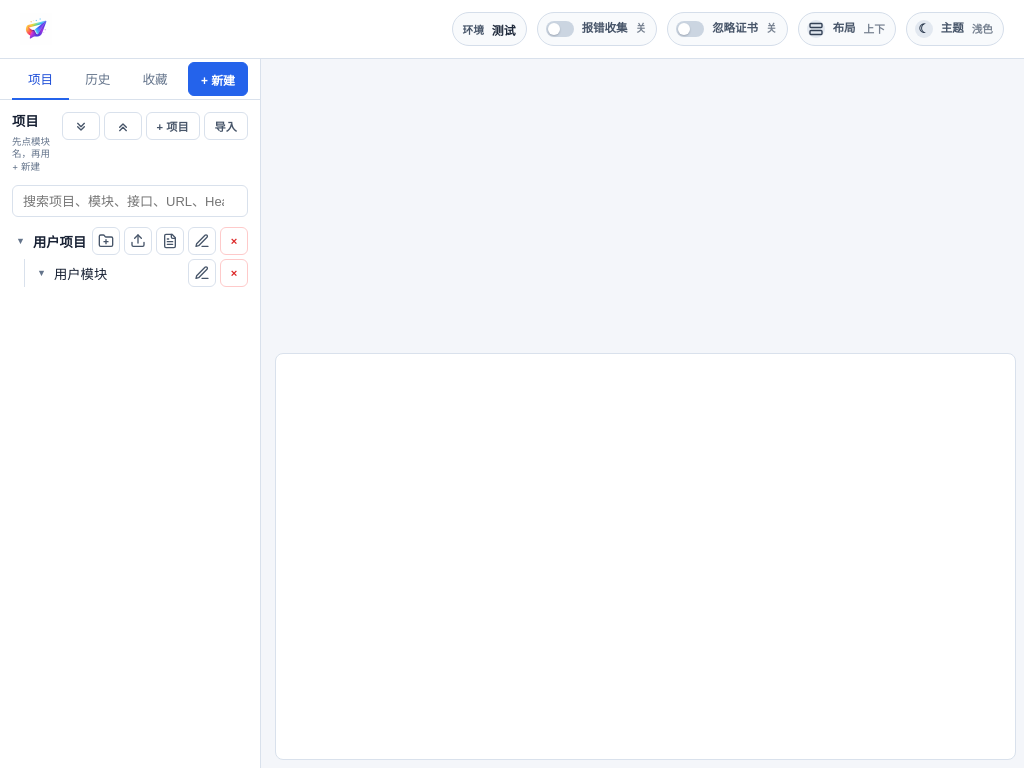
it: 项目树环境入口 › 同项目环境编辑立即同步当前请求配置，快捷键保存后关闭
Click the button "用户模块" at (119, 273), box [50,262,188,284]
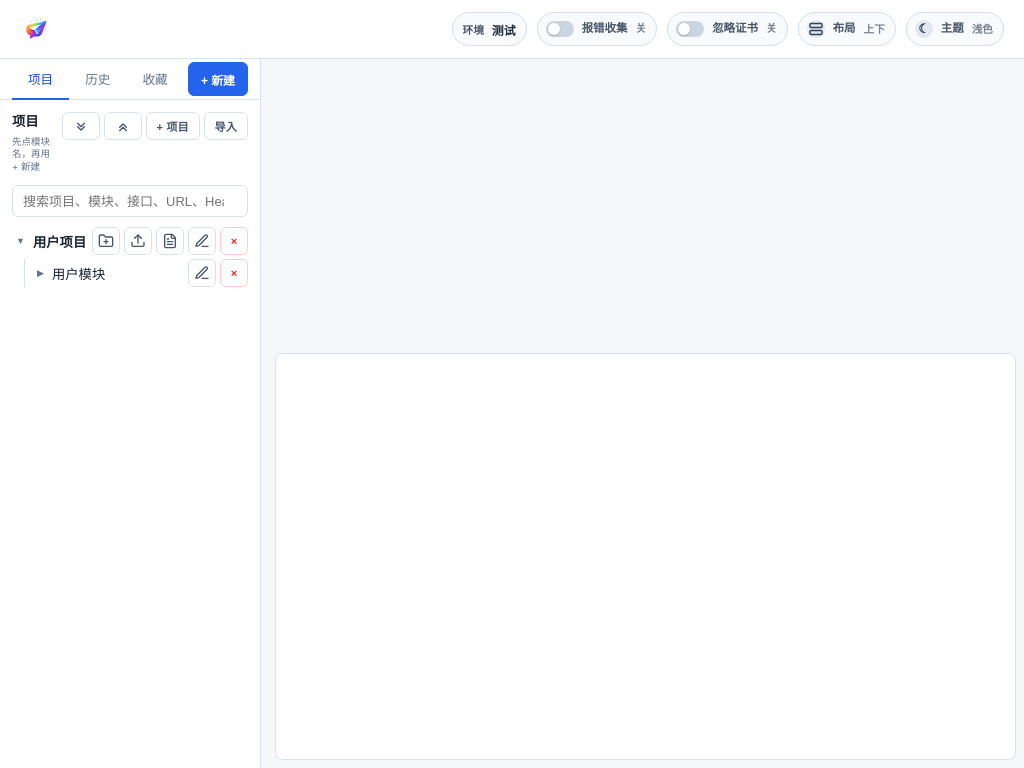
Click the button with aria-label "打开环境快速编辑，当前环境：测试" at (489, 29), box [452,12,527,46]
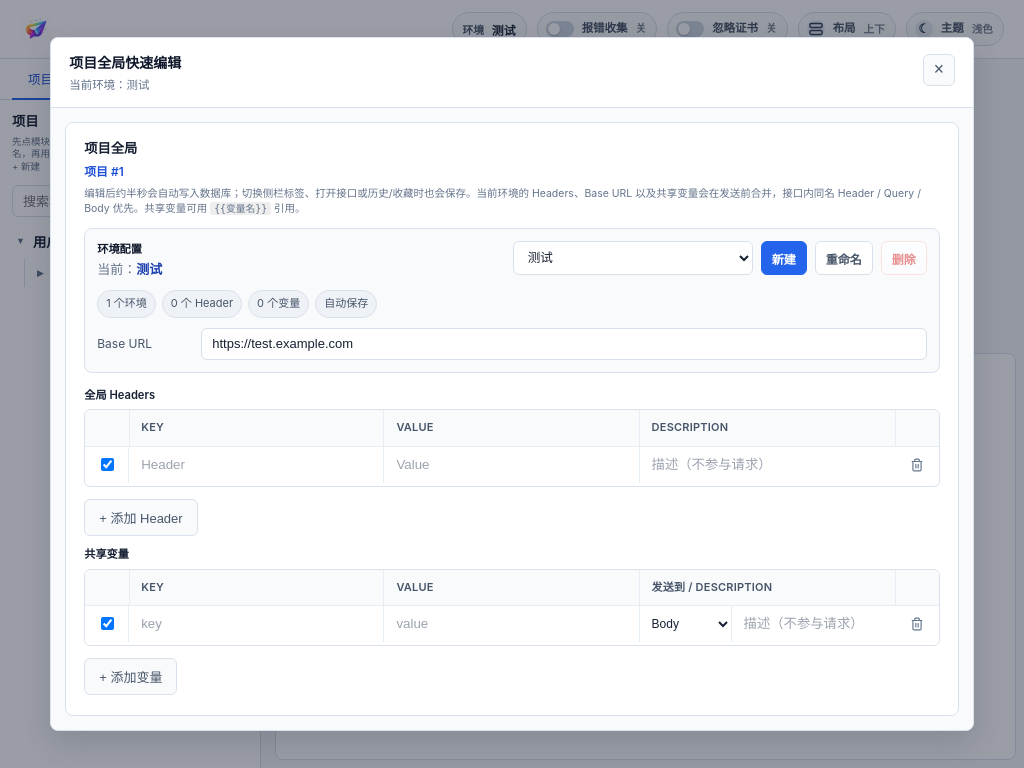
Replace the text in the field labelled "Base URL" with "https://same.example.com" at (564, 344), box [201,328,927,360]
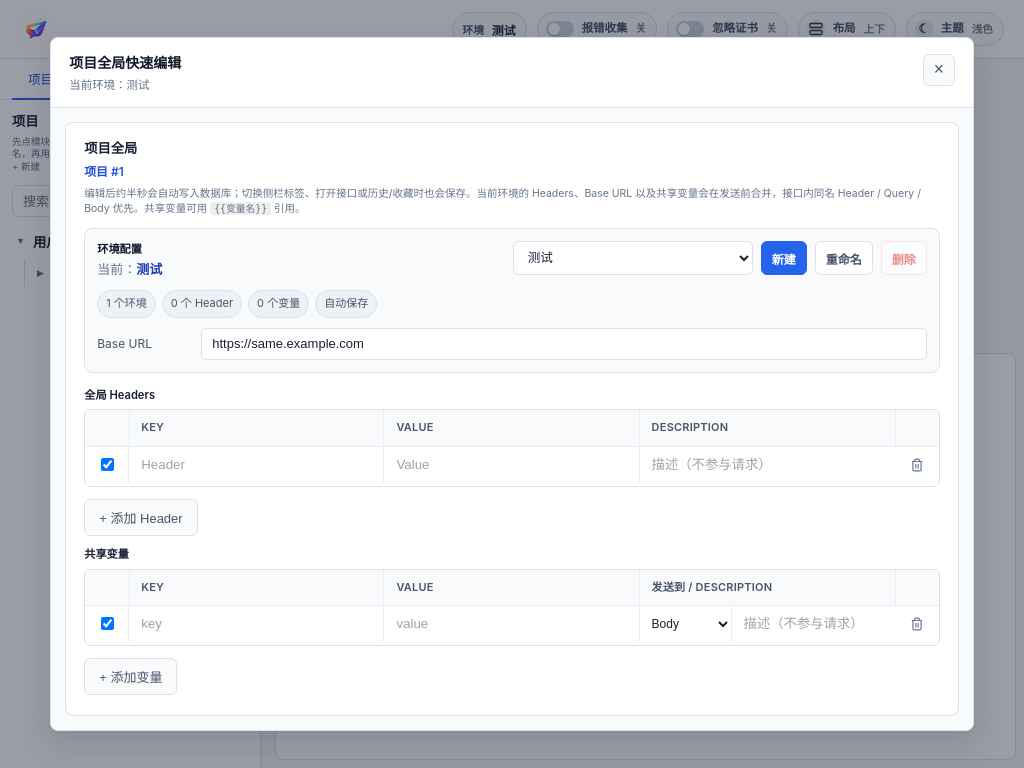
Press s
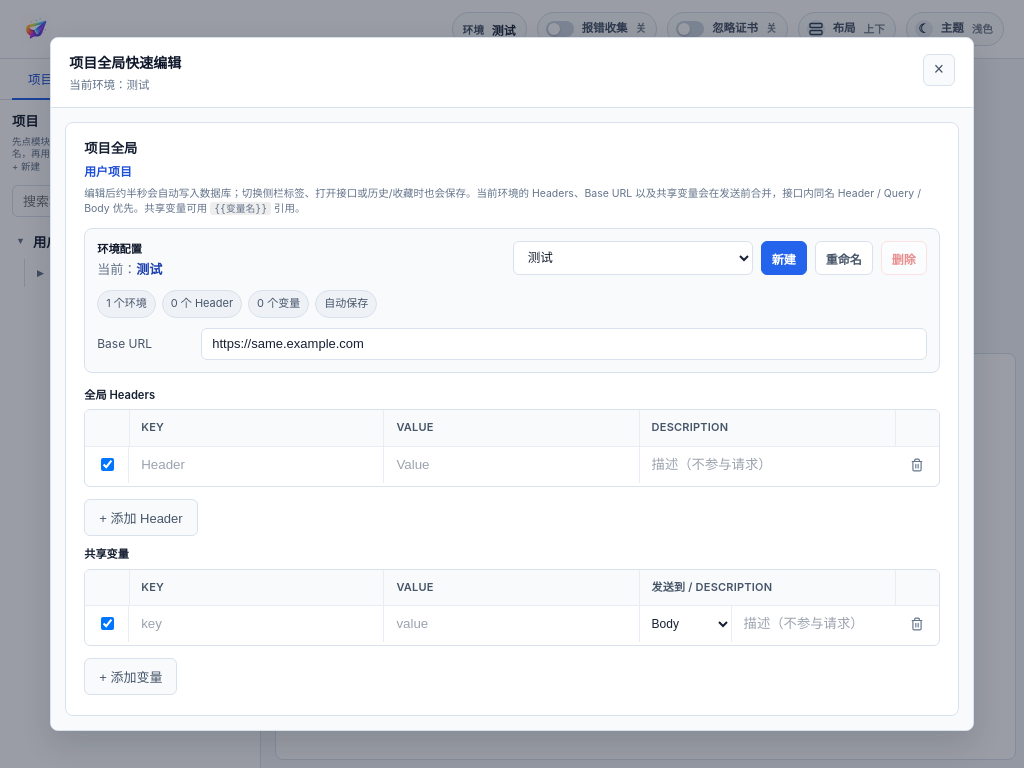
Press Escape
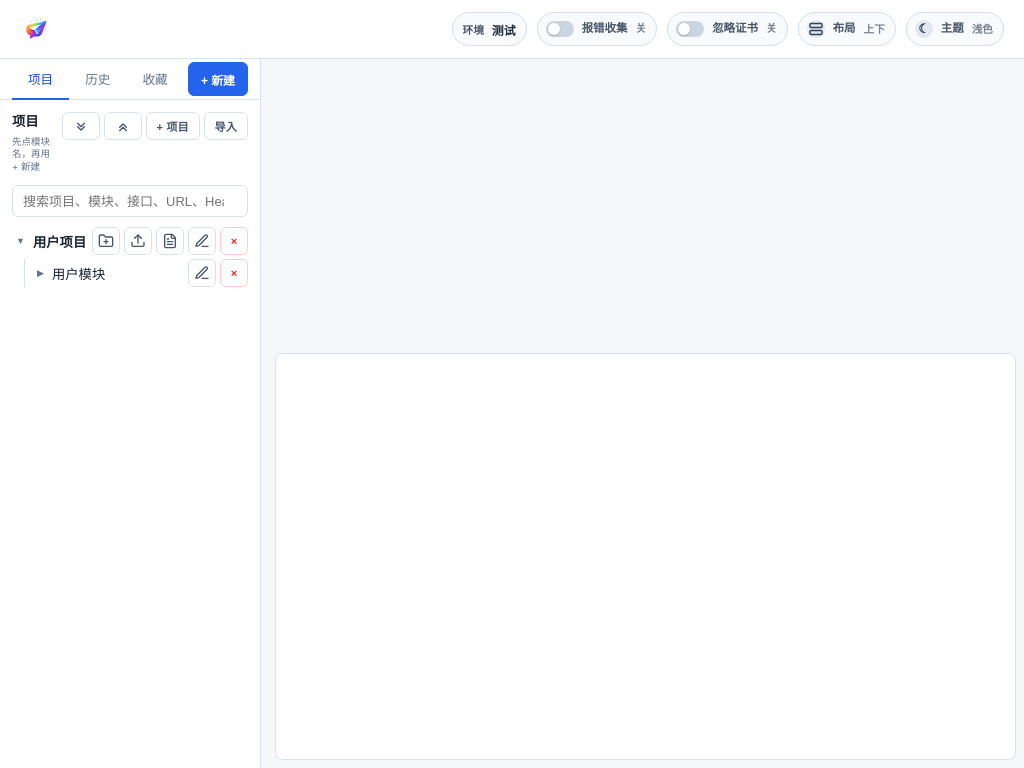
Expected: the dialog is gone
